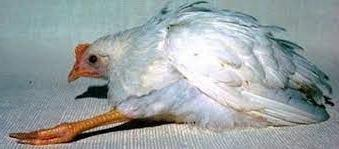AbNormal: (4, 5, 339, 144)
